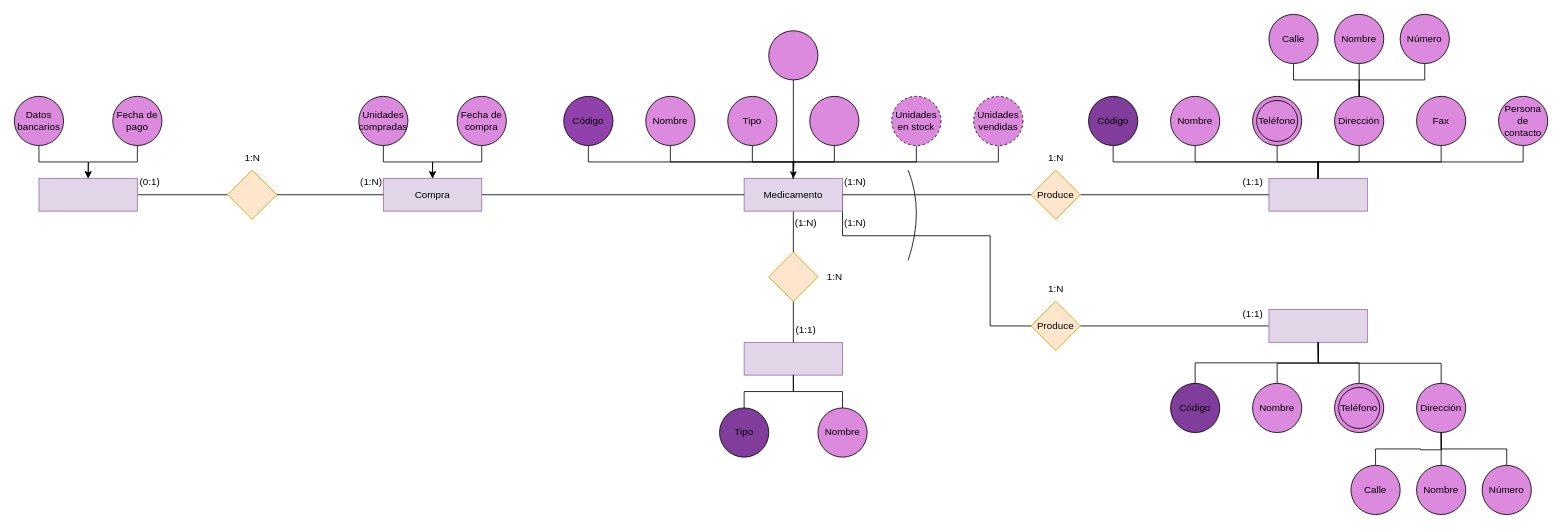
Image size: 1562x529. Some labels were removed from this diagram. Each missing label, with the centre of its shape:
Cliente con crédito: (87,194)
Familia: (793,358)
Farmacia: (1317,325)
Laboratorio: (1317,194)
Pertenece: (793,276)
Precio: (834,121)
Realizada: (252,194)
Tipo de venta: (793,55)
